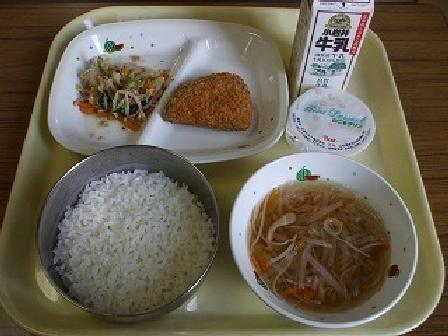Cup desserts: (278, 89, 380, 159)
Milk: (283, 0, 377, 96)
Rice: (47, 149, 206, 309)
Salad: (77, 54, 175, 125)
Soups: (244, 160, 407, 316)
cutlet: (165, 72, 262, 136)
